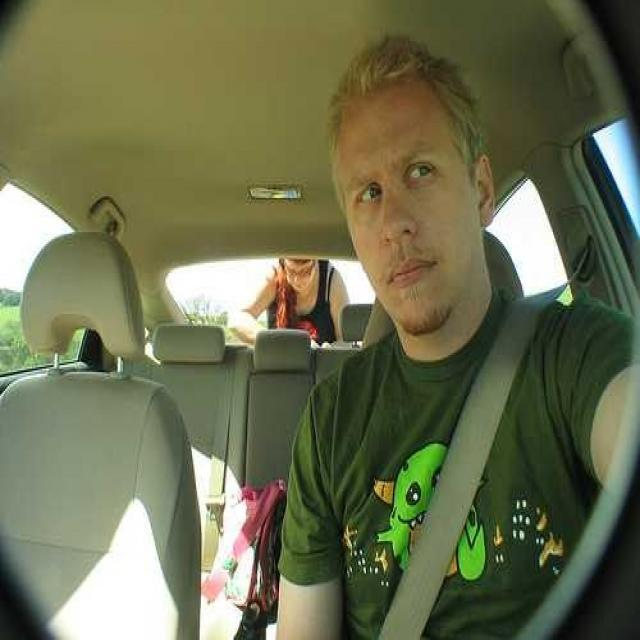seatbelt: (366, 237, 611, 613)
